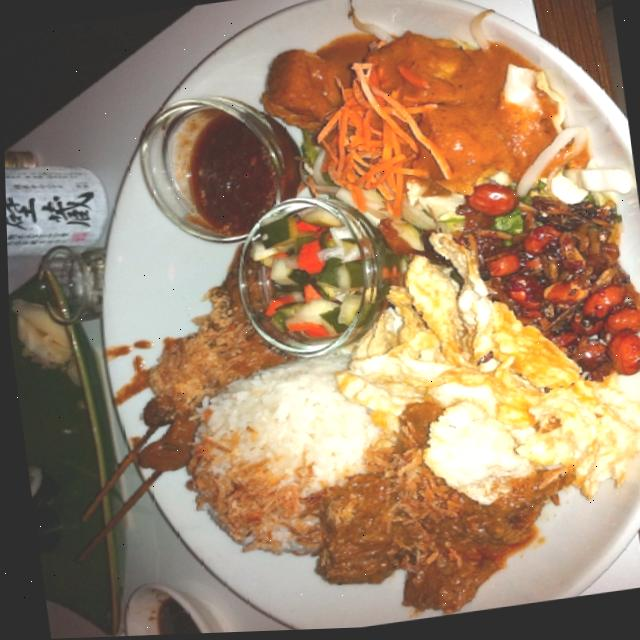米饭主食: (54, 0, 640, 638)
